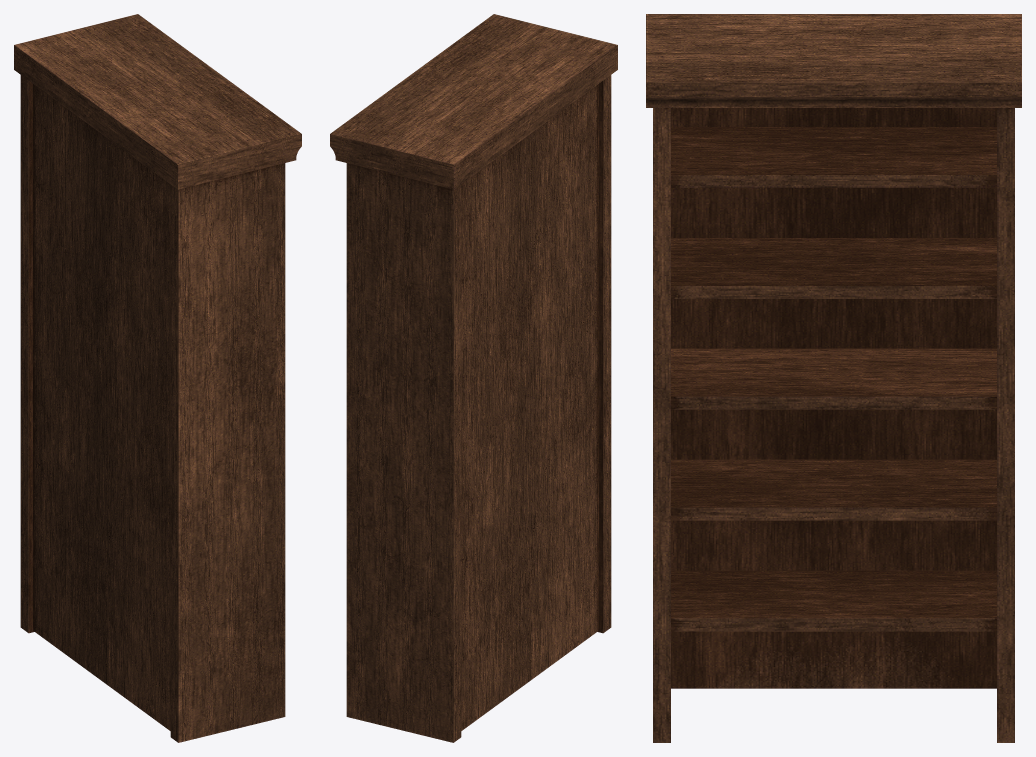
Rendered from shelfbig.fbx.
3 renders of one model, left to right at view 1: azimuth 30°, elevation 25°; view 2: azimuth 150°, elevation 25°; view 3: azimuth 270°, elevation 25°, orthographic. The views are drawn at different scales.
Visible parts, largest first — view 1: shelfbig; view 2: shelfbig; view 3: shelfbig.
Part boxes in pixels (bbox=[...]): shelfbig: bbox=[14, 14, 301, 742]; shelfbig: bbox=[330, 14, 617, 742]; shelfbig: bbox=[646, 14, 1021, 742].
Bounding box in the file's own units: 63.2 × 283 × 145.
